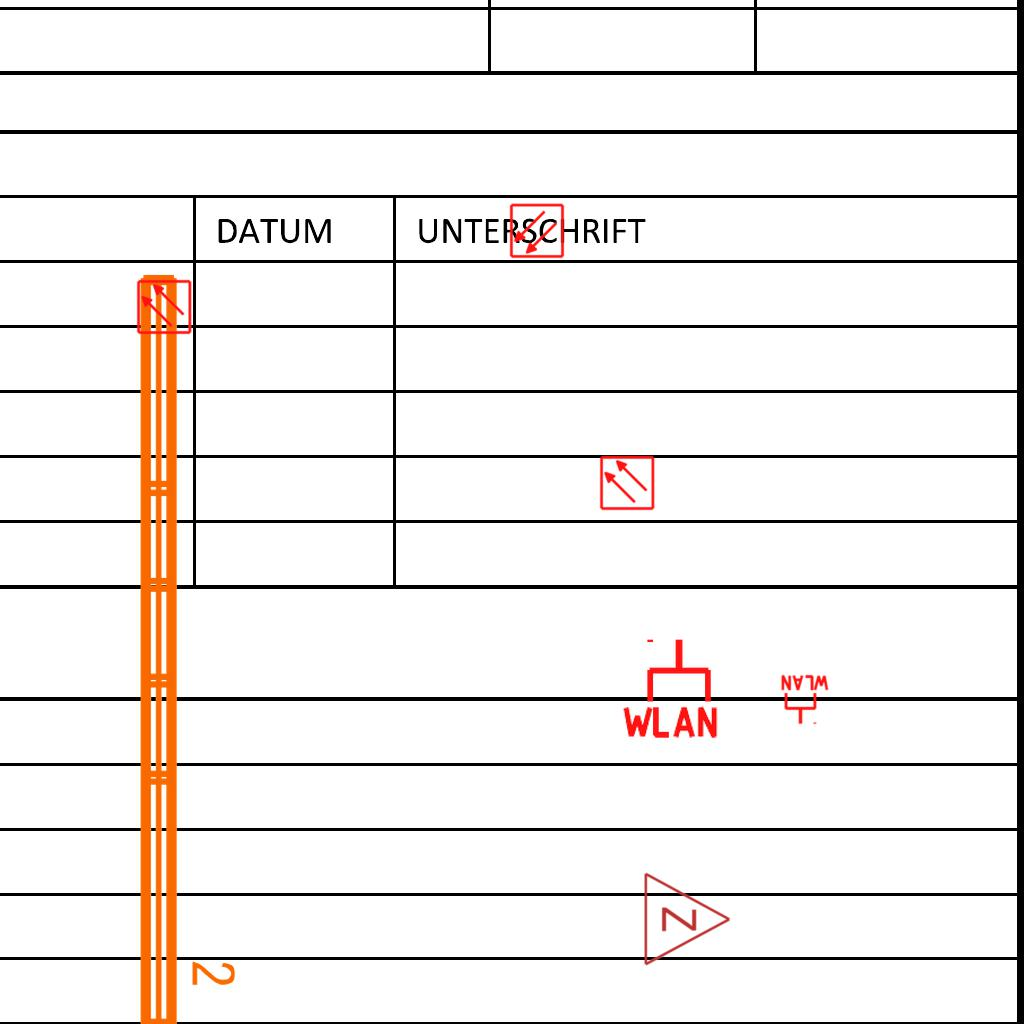Ambulanz_Pendelleuchte_LED: (128, 264, 240, 1024)
RMO_Rauchmelder_optischer: (599, 455, 655, 511), (509, 203, 565, 259), (136, 279, 192, 335)
WLAN: (618, 635, 722, 740), (779, 674, 831, 726)
Zimmersignalleuchte: (637, 869, 737, 967)
